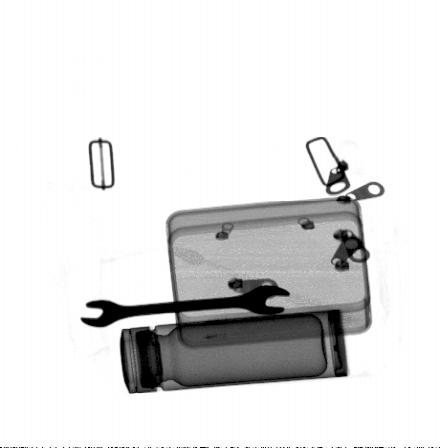Wrench: (78, 284, 291, 330)
